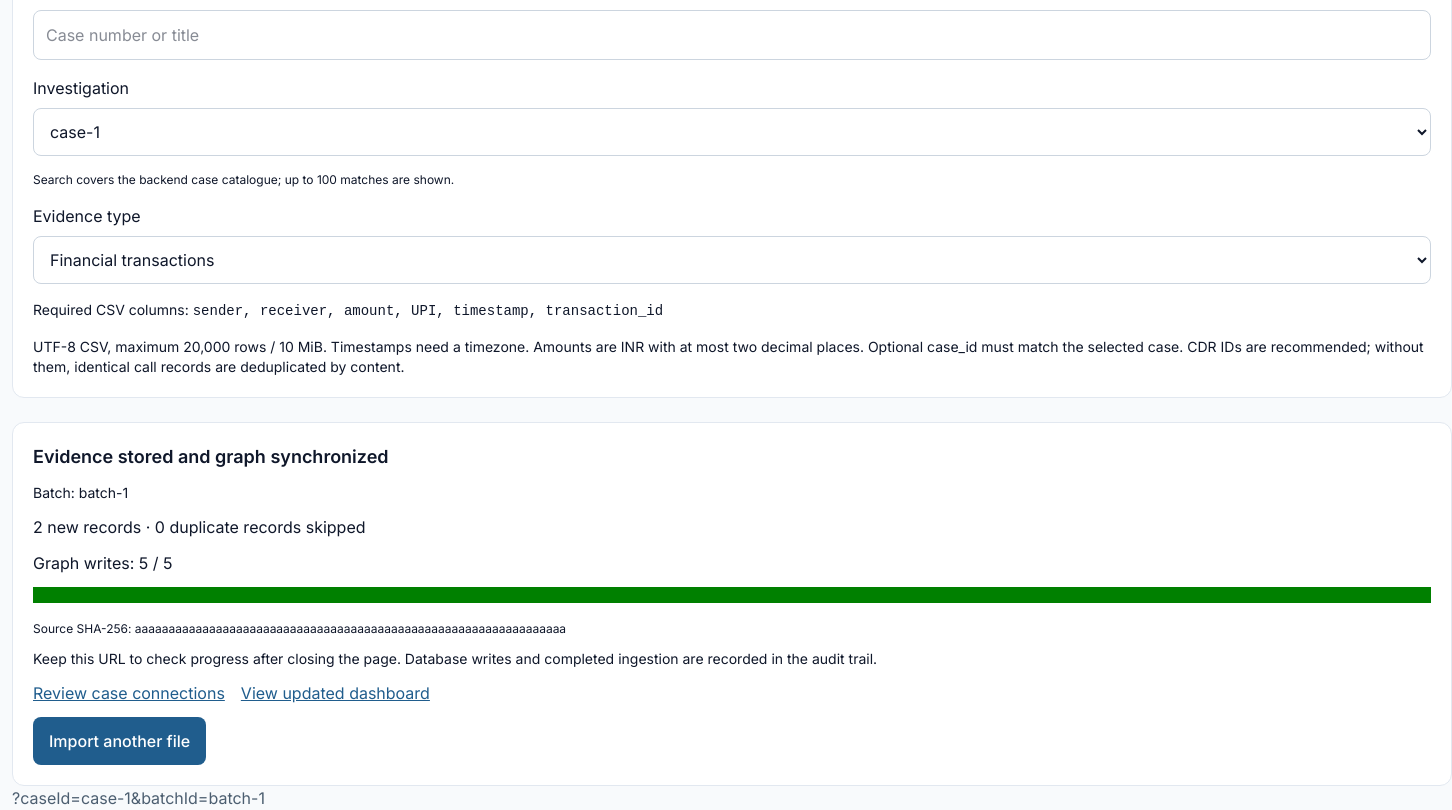
Test: restores server status and correct evidence type without repeating an upload
The width and height of the screenshot is (1452, 810).
(page scrolled)
Check: the text "Evidence stored and graph synchronized" is shown, box 33,446 -> 389,467
Check: the dropdown labelled "Evidence type" shows "Financial transactions", box 33,236 -> 1431,284
Click the button "Import another file". click: (120, 741)
box: 33,717 -> 206,765
(page scrolled)
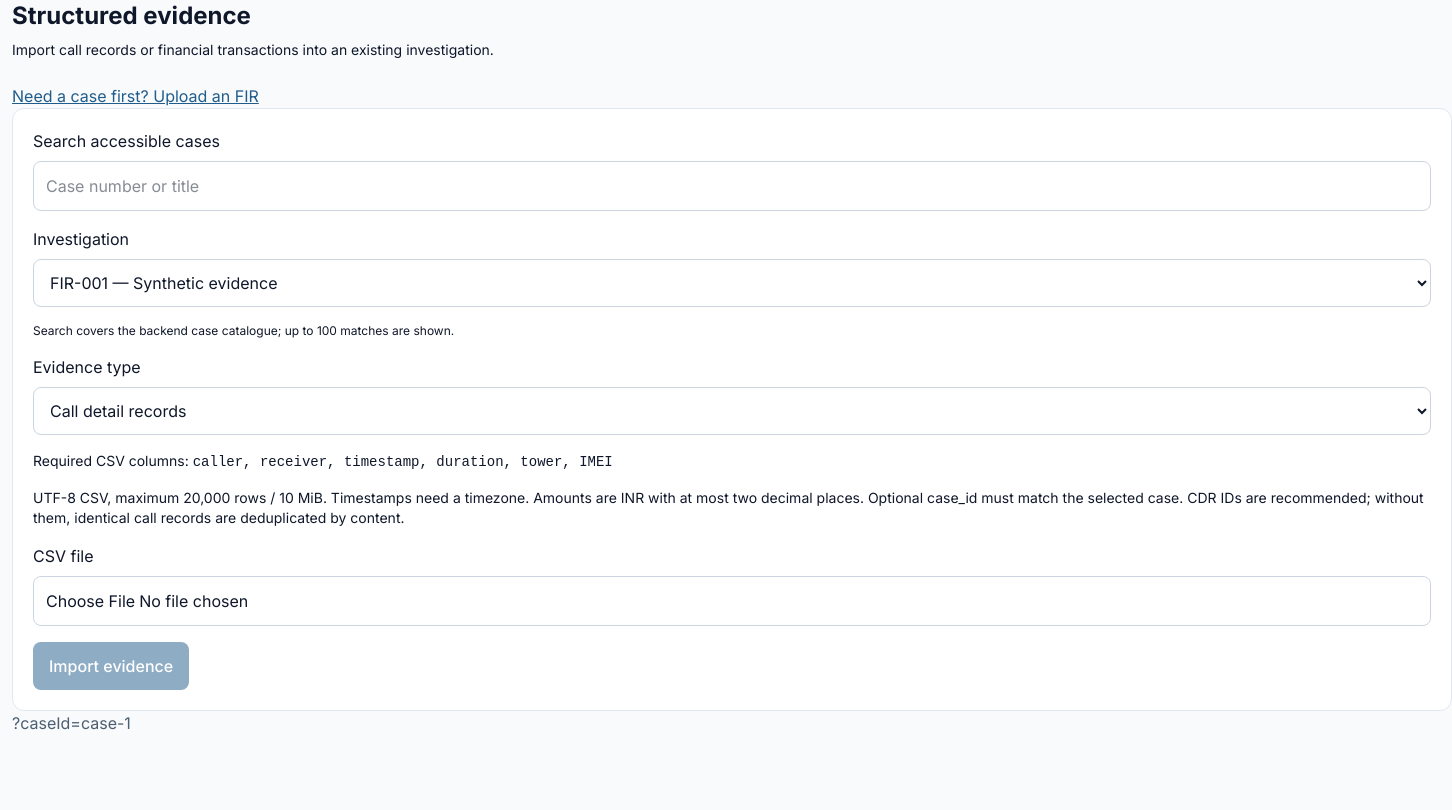
Check: the file field labelled "CSV file" is shown, box 33,576 -> 1431,626
Check: the text named "Current URL" no longer shows "batchId", box 12,713 -> 131,733
